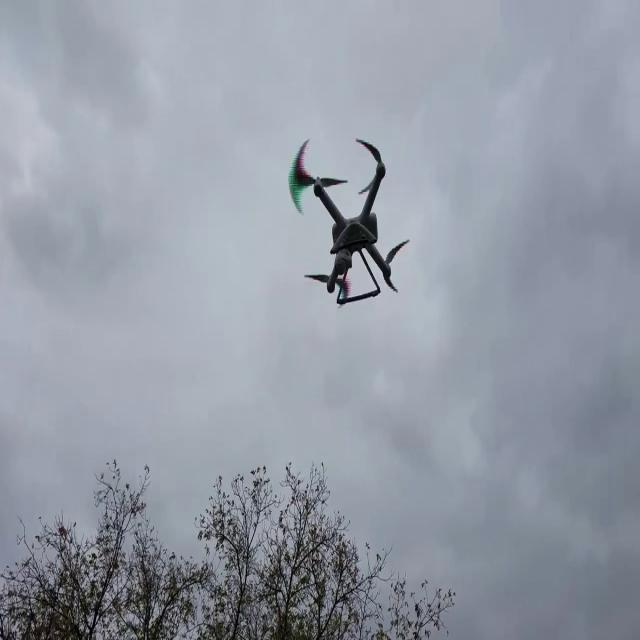drone: (283, 130, 411, 312)
